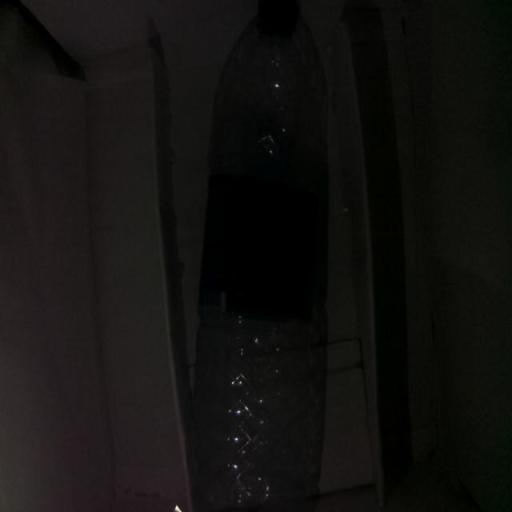bottle: (168, 0, 358, 512)
